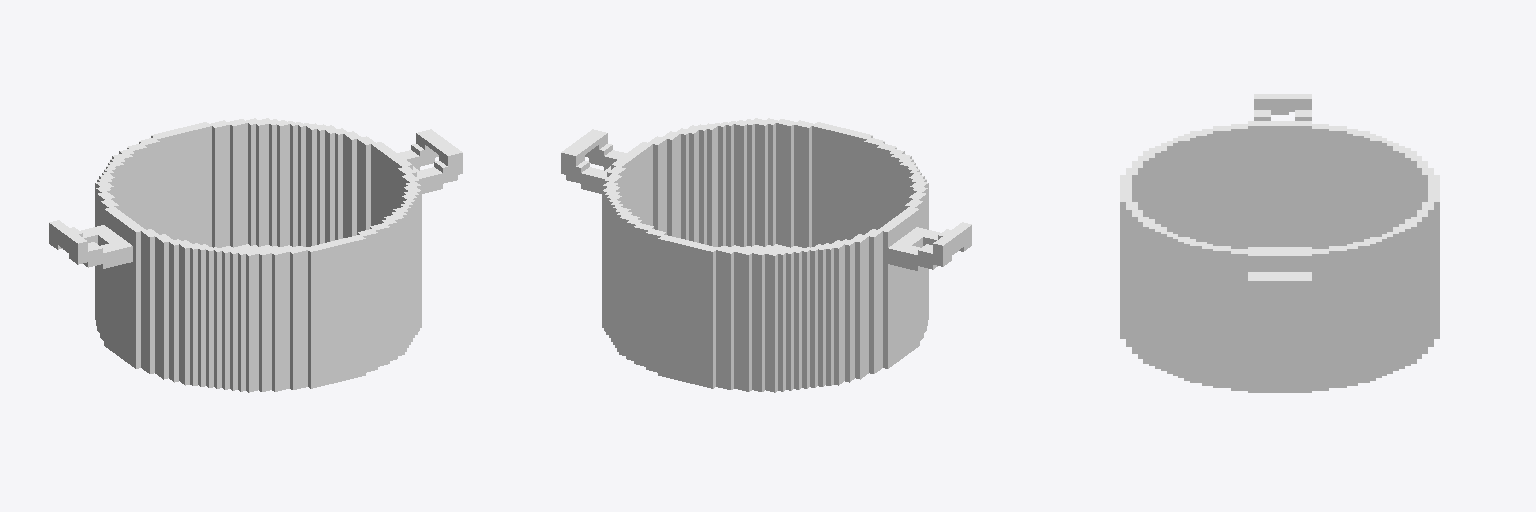
Rendered from kastrula.obj.
The picture shows the model from 3 angles: view 1: azimuth 30°, elevation 25°; view 2: azimuth 150°, elevation 25°; view 3: azimuth 270°, elevation 25°; orthographic projection.
Bounding box in the file's own units: 76 × 26 × 55.